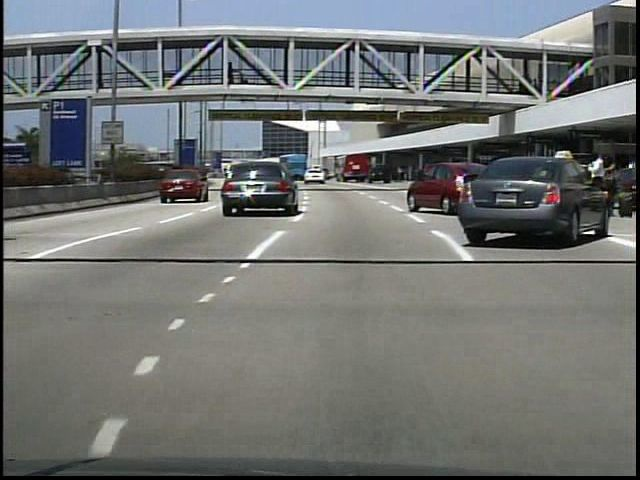person: (223, 60, 237, 87)
